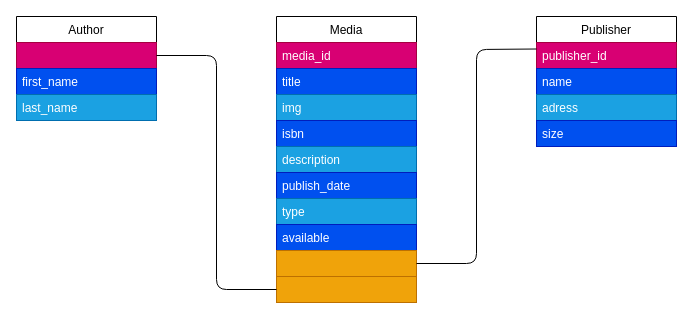
This 693x319 diagram has some shape labels left out. The shapes that lost their labels are listed below. From the top down, each one's box as (x1, y1, x2, y2) in pixels, then its label:
(16, 42, 156, 68): author_id
(276, 250, 416, 276): fk_publisher_id
(276, 276, 416, 302): fk_author_id
